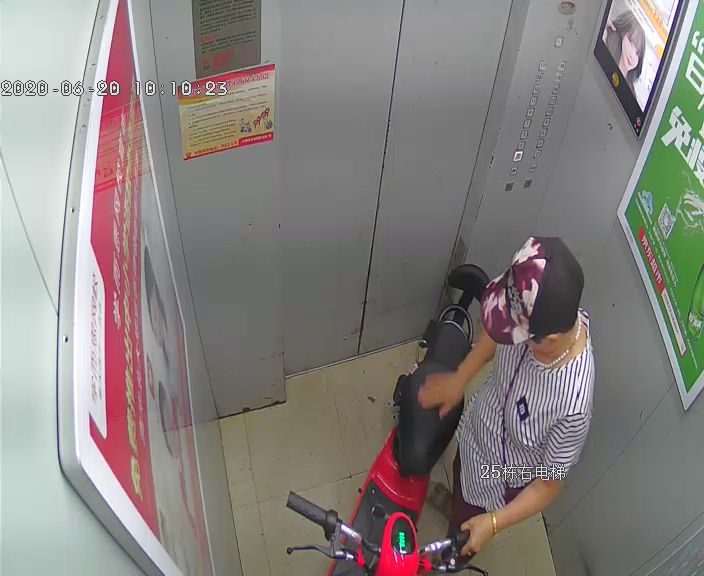Electric-bicycle: (283, 255, 488, 574)
